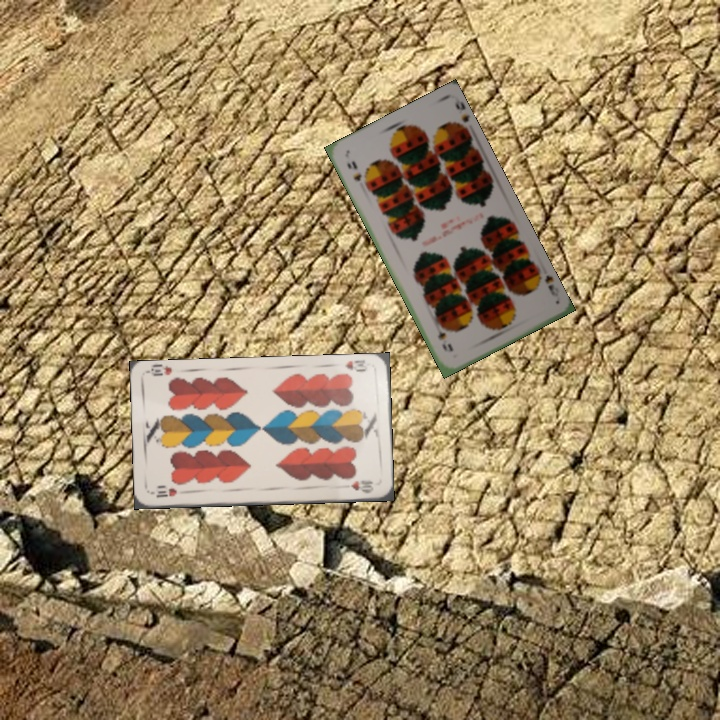H10: (341, 356, 373, 374), (152, 484, 179, 500)
S9: (531, 265, 561, 299), (343, 157, 364, 184)
